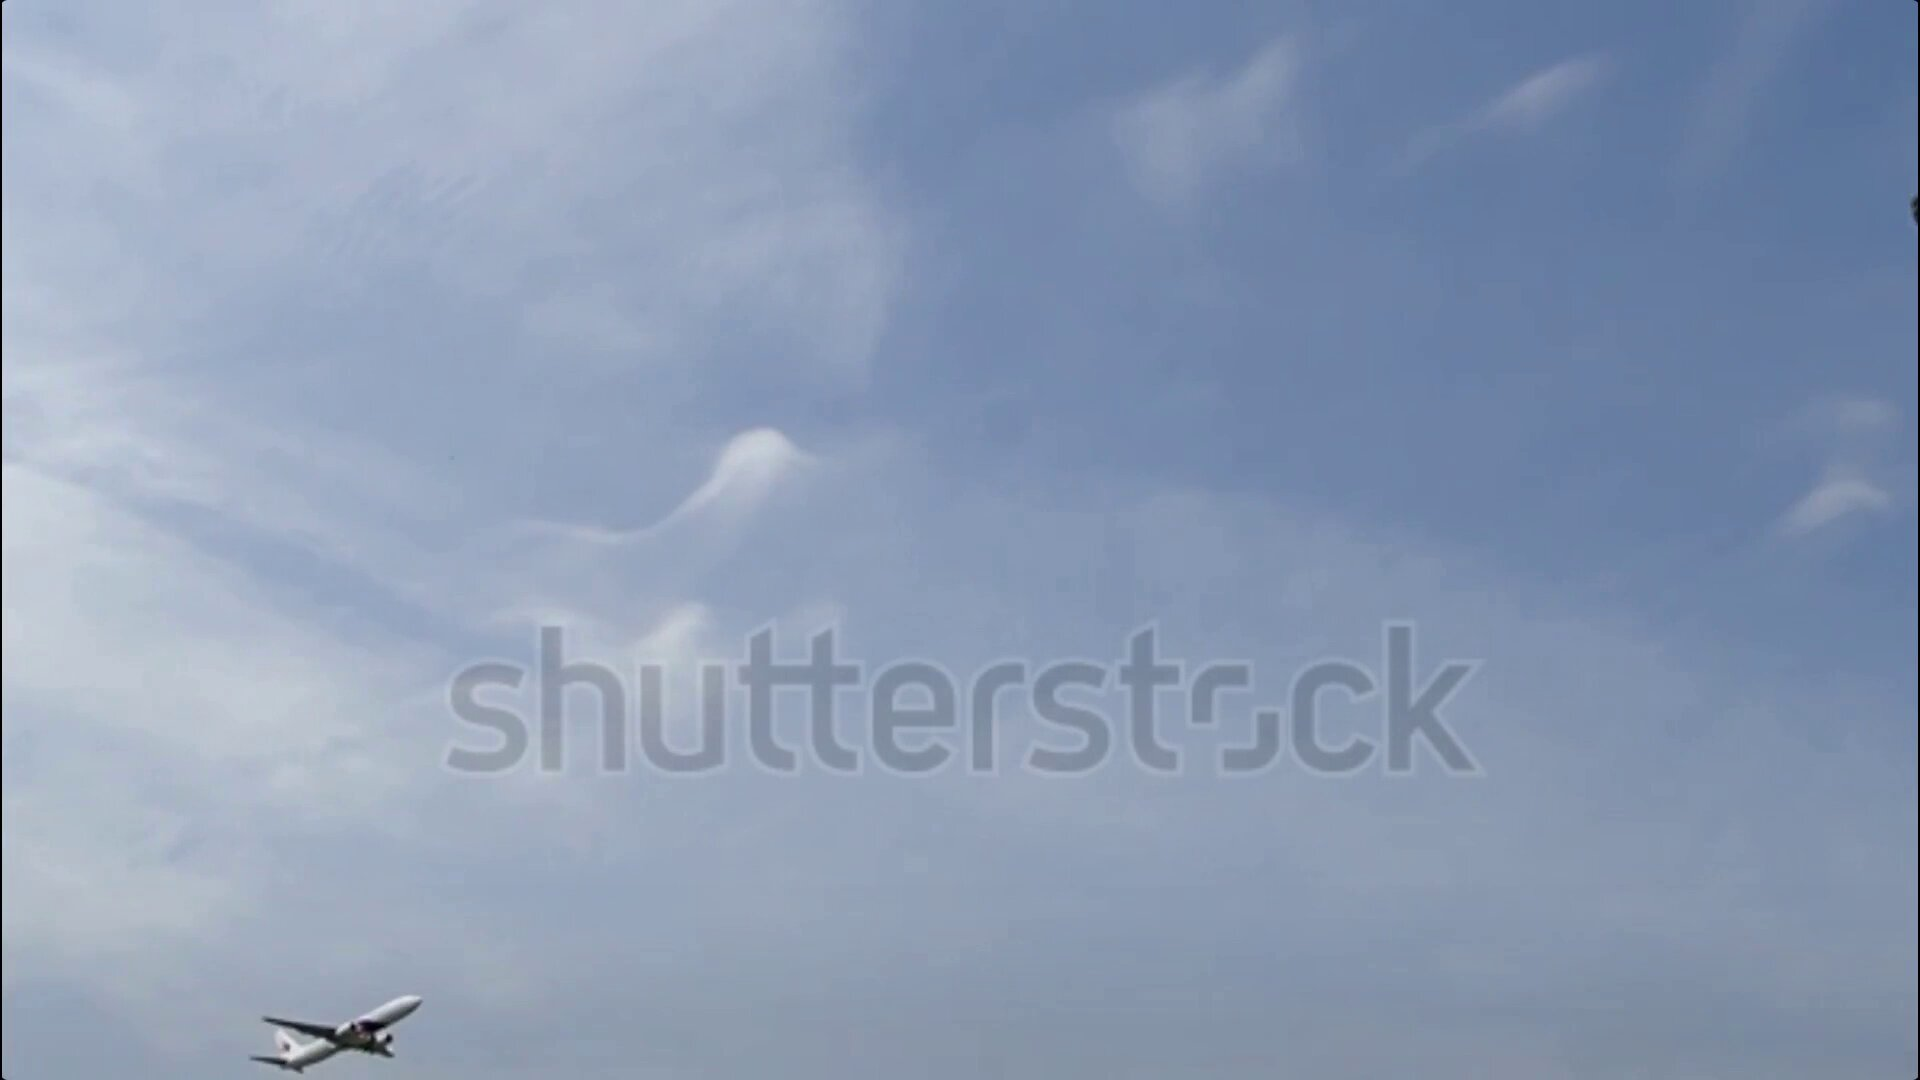airplane: (248, 990, 425, 1073)
